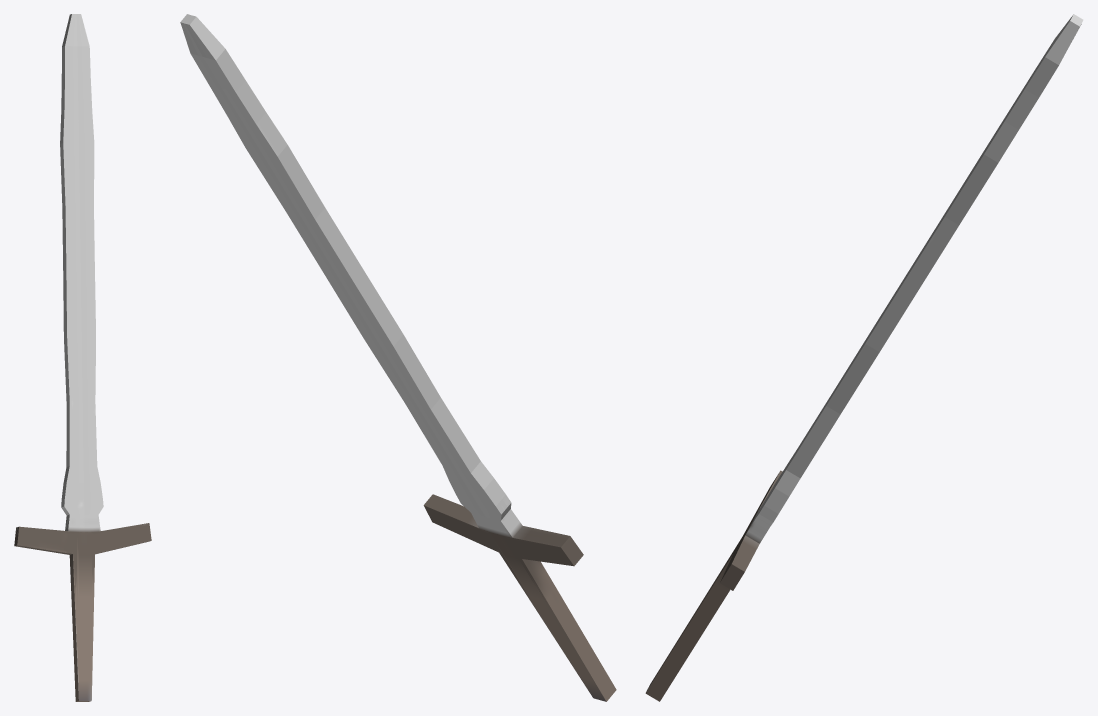
File: sword_000056.obj
The picture shows the model from 3 angles, left to right: view 1: azimuth 30°, elevation 25°; view 2: azimuth 150°, elevation 25°; view 3: azimuth 270°, elevation 25°; orthographic projection. The views are drawn at different scales.
Bounding box in the file's own units: 0.2007 × 0.6143 × 0.3138.
